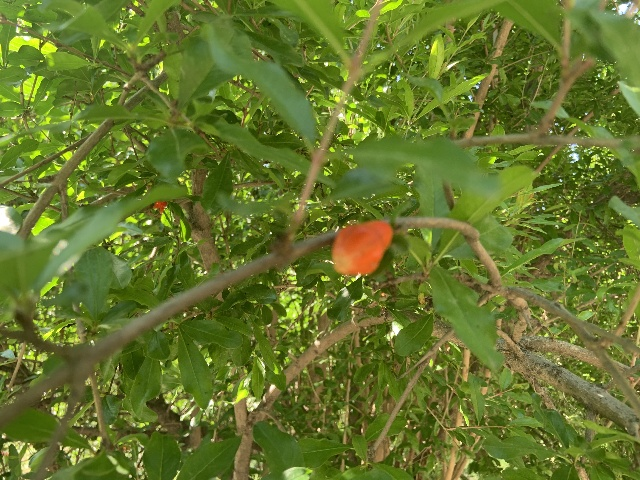bud: (331, 220, 392, 275)
flower: (153, 200, 167, 212)
